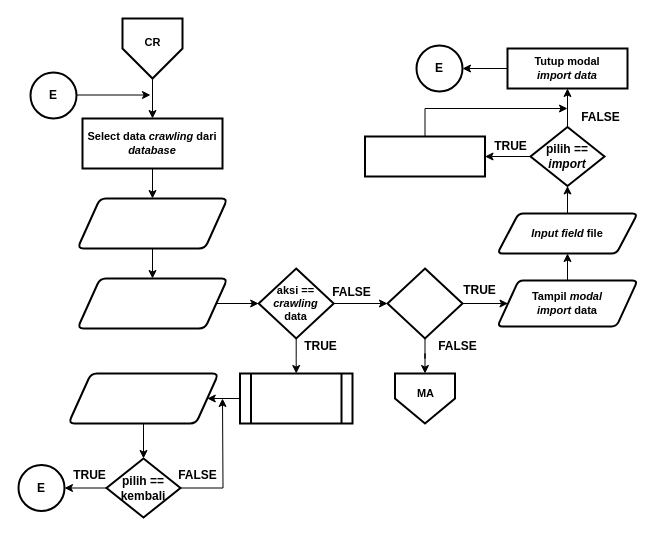
This 655x535 diagram has some shape labels left out. Each missing label, with the box of its shape:
aksi == import data: (386, 267, 463, 339)
Crawling: (238, 372, 353, 424)
Input aksi, pilih: (76, 277, 228, 329)
Insert database: (364, 135, 486, 177)
Tampil hasil crawling: (67, 372, 219, 424)
Tampilkan halaman crawling: (76, 197, 228, 249)
